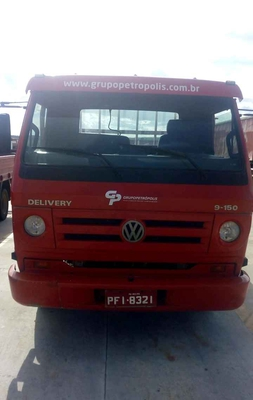Frontal Caminhao: (8, 74, 252, 315)
